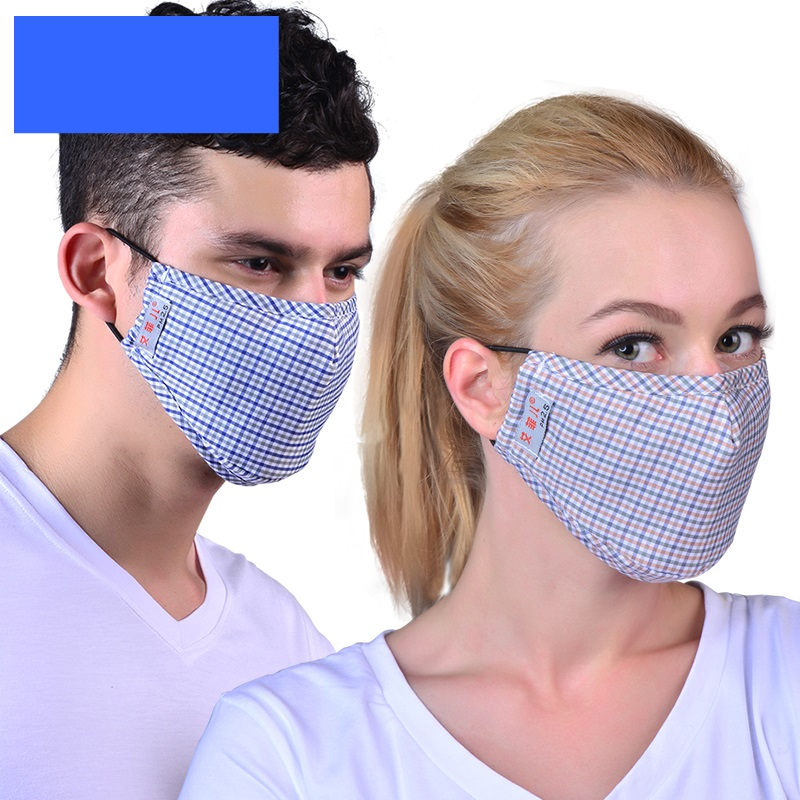face_mask: (511, 190, 770, 560), (137, 148, 375, 448)
